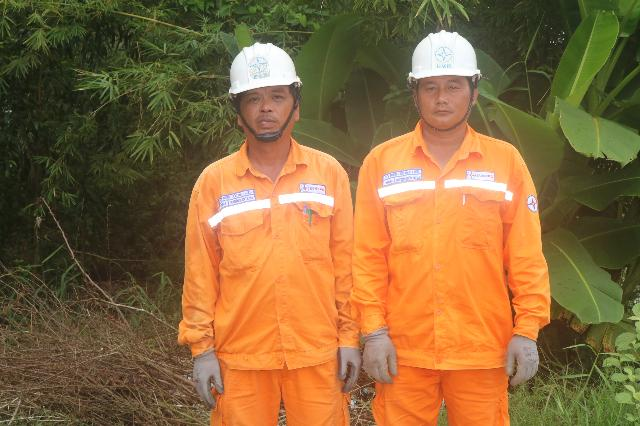gloves: (180, 340, 237, 413), (498, 325, 545, 390), (364, 320, 409, 386), (334, 331, 363, 399)
helmet: (396, 26, 487, 87), (216, 41, 310, 95)
